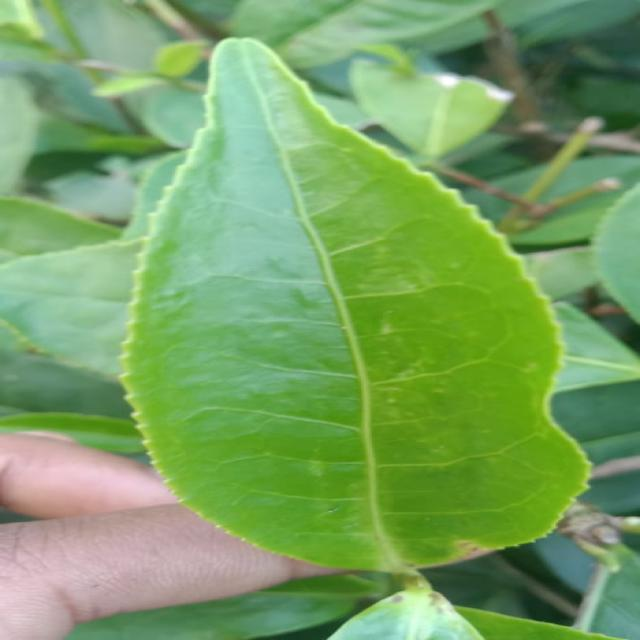Category B 2-4 days: (119, 31, 604, 579)
